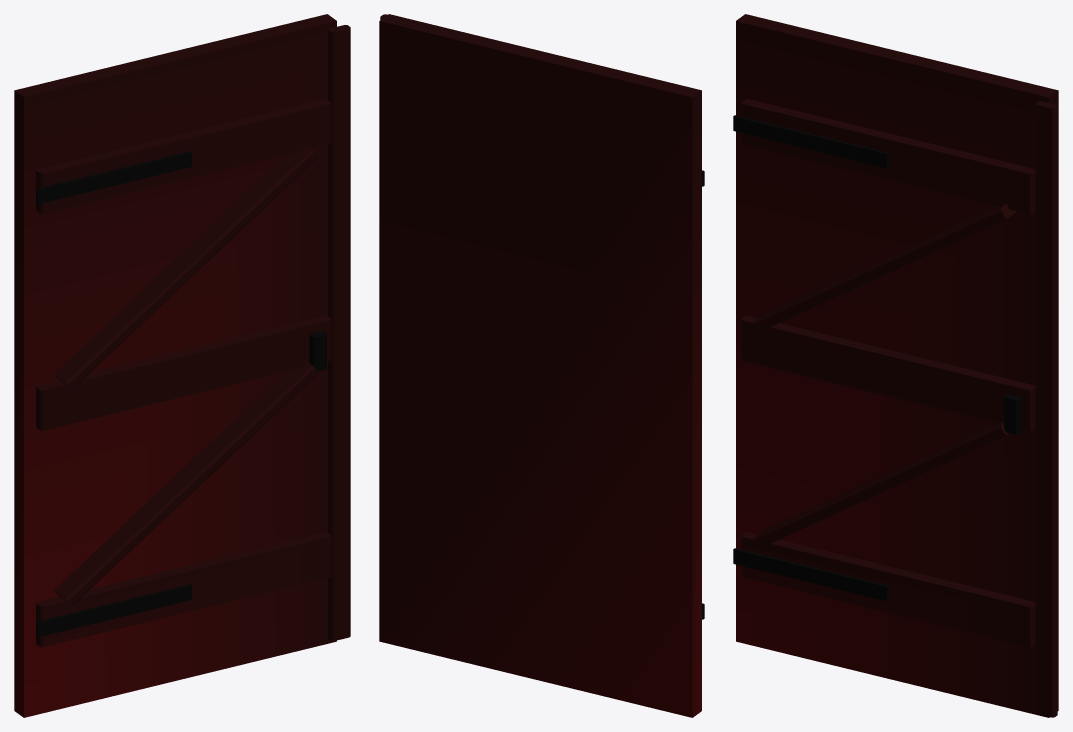
Rendered from SilverbrookWorkshop_Door1.fbx.
The picture shows the model from 3 angles, left to right: view 1: azimuth 30°, elevation 25°; view 2: azimuth 150°, elevation 25°; view 3: azimuth 330°, elevation 25°; orthographic projection.
Visible parts, largest first — view 1: SM_SBWorkshop_Door1_Part; view 2: SM_SBWorkshop_Door1_Part; view 3: SM_SBWorkshop_Door1_Part.
Boxes of the visible parts, x1,y1,x2,y2 form: SM_SBWorkshop_Door1_Part: (14,14,350,717); SM_SBWorkshop_Door1_Part: (379,14,704,717); SM_SBWorkshop_Door1_Part: (733,14,1058,717).
Size of the model in its own units: 117 by 215 by 14.
